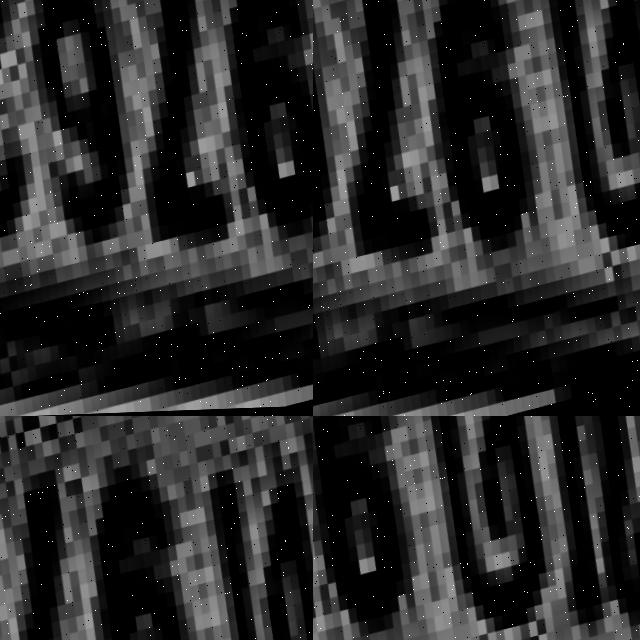license-plate: (313, 0, 640, 394), (0, 0, 313, 394), (313, 416, 640, 640), (0, 416, 313, 640)
